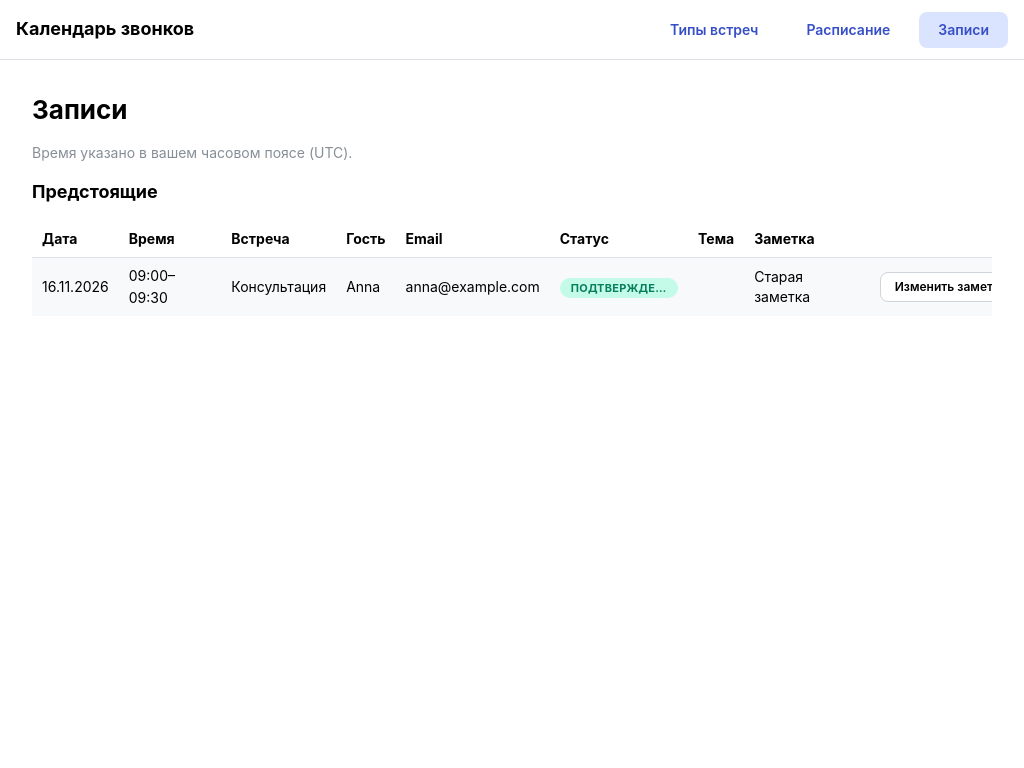
Test: BookingsPage › existing note › shows a server error and keeps the entered text and the saved note
The image size is (1024, 768).
Step 1. Click the button with aria-label "Изменить заметку: Anna, 16.11.2026 09:00" → [951, 287], box [880,272,1022,302]
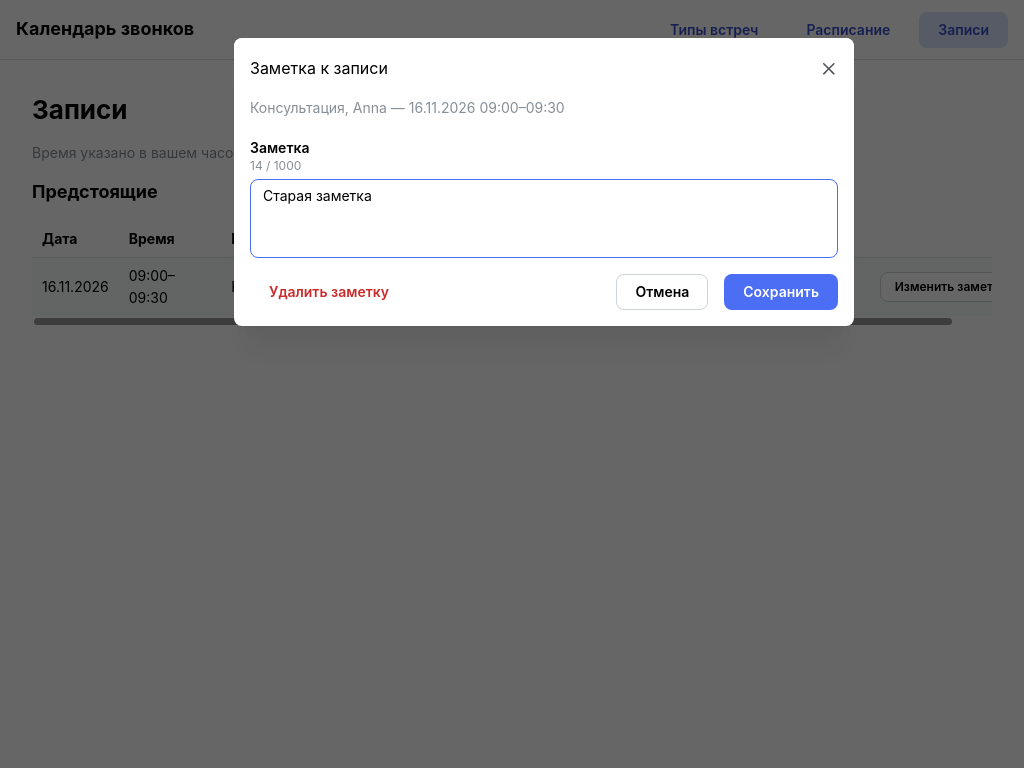
Step 2. Replace the text in the text box labelled "Заметка" with "Новая заметка" → [544, 218], box [250,179,838,258]
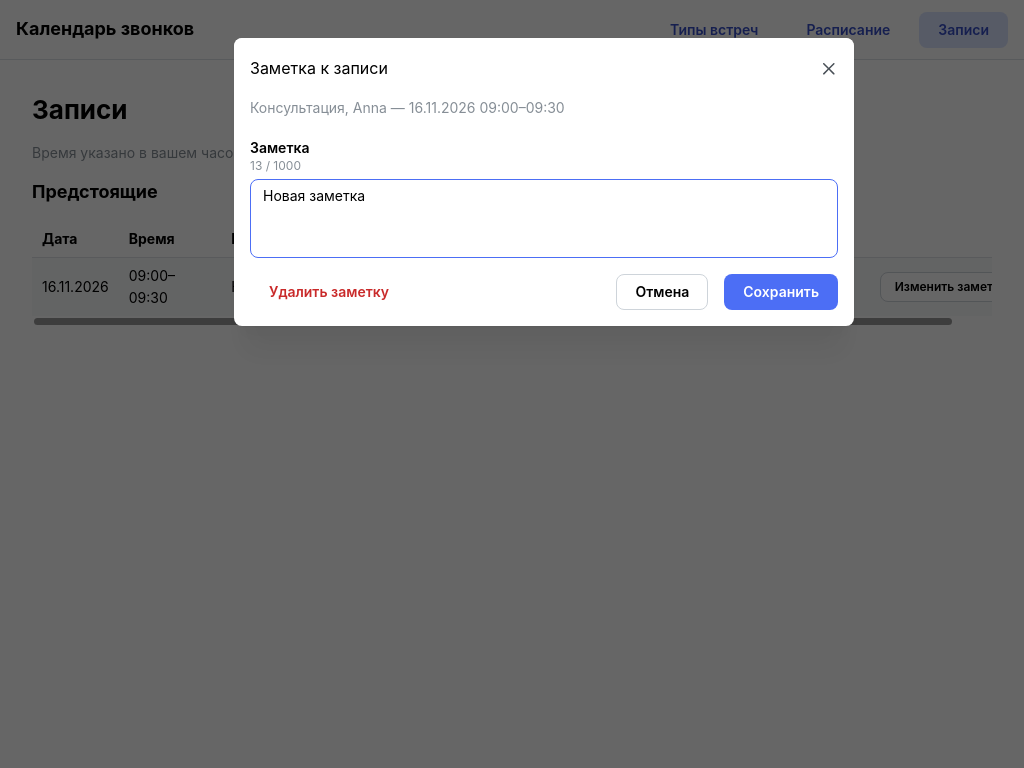
Step 3. Click the button "Сохранить" → [781, 292], box [724,274,838,310]
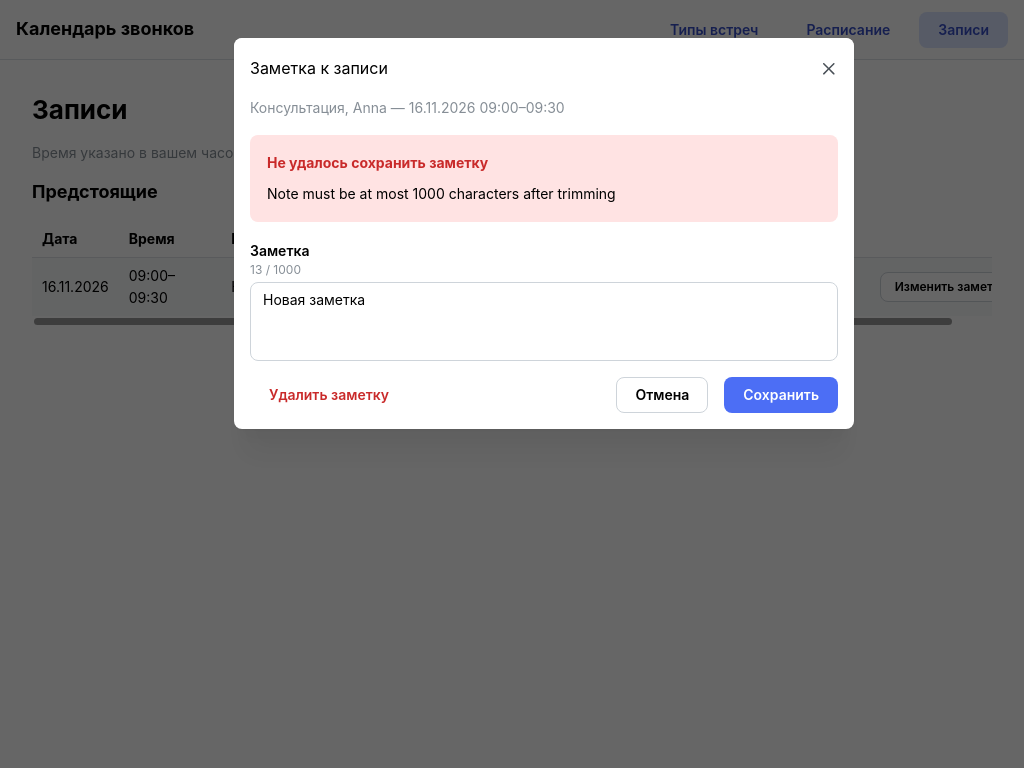
Expected: the cell reads "Старая заметка", [754,268,810,305]
Result: the text "Не удалось сохранить заметку" is shown at [267,152,488,173]
Result: the text "Note must be at most 1000 characters after trimming" is shown at [267,185,616,202]
